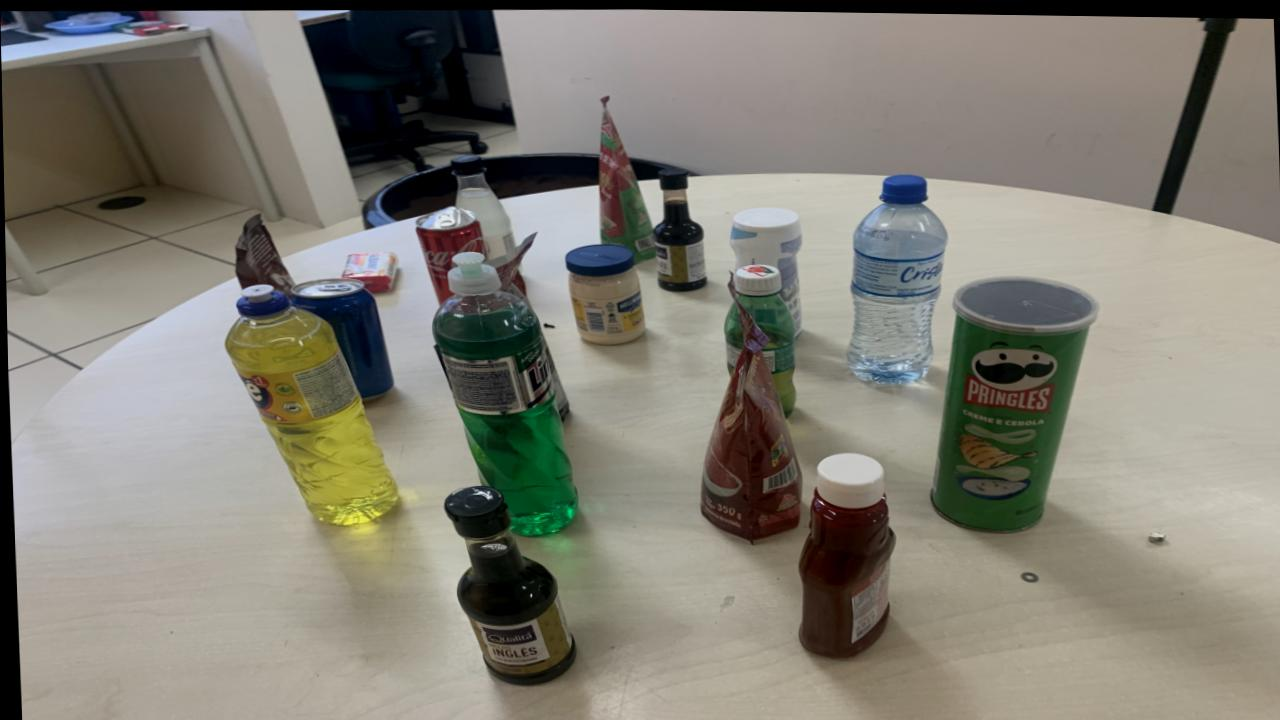Cleaner-Cleanup_Items: (729, 205, 802, 333)
Coke-Drinks: (414, 205, 485, 303)
Detergent-Cleanup_Items: (223, 283, 396, 525), (432, 250, 576, 533)
English_Sauce-Pantry_Items: (441, 485, 574, 683), (651, 167, 706, 289)
Guarana-Drinks: (722, 262, 795, 414)
Ketchup-Pantry_Items: (795, 451, 892, 655)
Mayonnaise-Pantry_Items: (565, 242, 643, 343)
Pringles-Snacks: (928, 273, 1096, 529)
Soap-Cleanup_Items: (341, 251, 398, 292)
Soda-Drinks: (289, 277, 392, 399), (449, 155, 514, 256)
Tomato_Sauce-Pantry_Items: (698, 299, 800, 539), (597, 96, 655, 261), (233, 214, 293, 293)
Tonic-Drinks: (289, 277, 392, 399)
Water_Bottle-Drinks: (846, 173, 947, 381)
